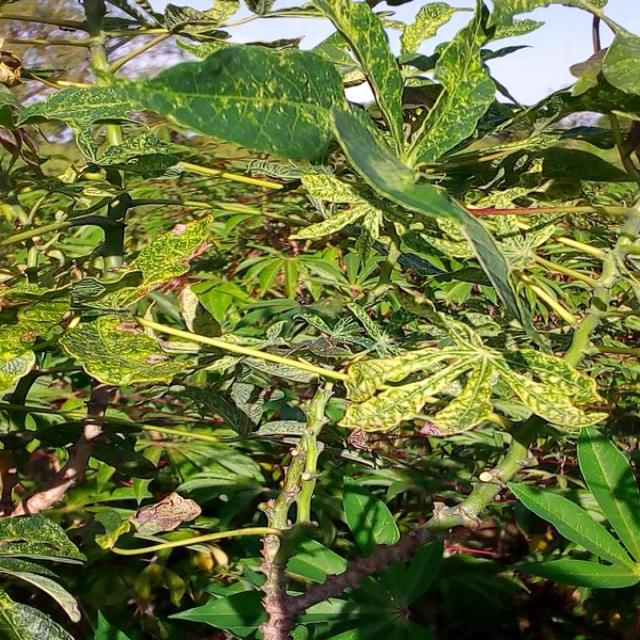cassava leaf: (16, 43, 353, 163)
